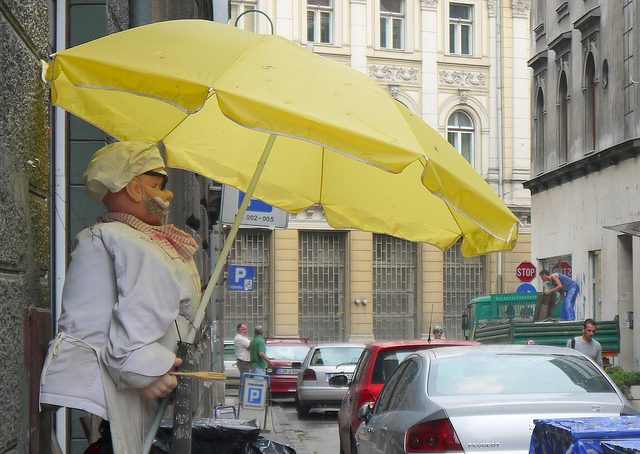Stop: (515, 257, 539, 286)
